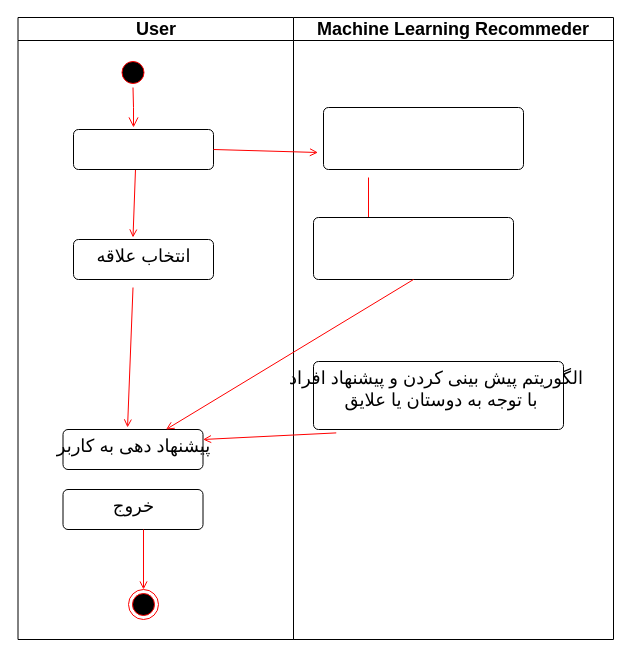
The diagram is 631 pixels wide and 657 high, and some of its shapes have lost their labels. The centre of each missing label's shape, as x and y in pixels:
الگوریتم پیدا کردن علایق کاربر با توجه به سن ، جنسیت و غیره: point (423, 138)
الگوریتم پیدا کردن علایق کاربر با توجه به علایق دوستان: point (413, 248)
ورود: point (143, 149)
